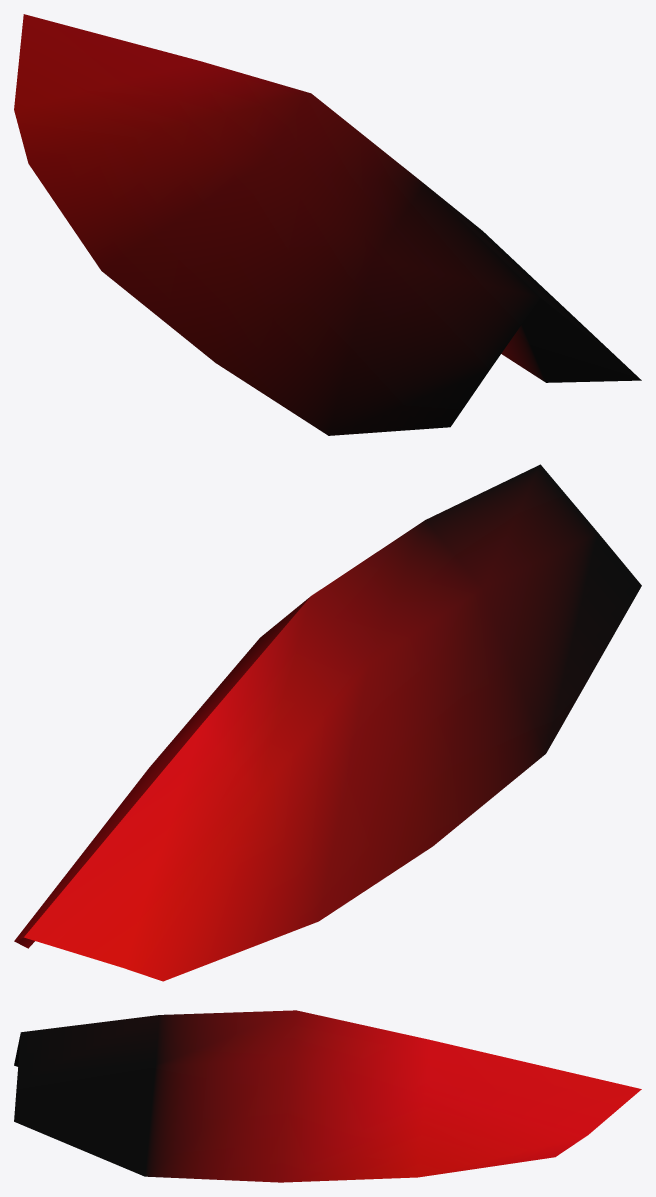
Rendered from SM_LeafPalm_02.fbx.
The picture shows the model from 3 angles, top to bottom: view 1: azimuth 30°, elevation 25°; view 2: azimuth 150°, elevation 25°; view 3: azimuth 270°, elevation 25°; orthographic projection. The views are drawn at different scales.
Parts seen in each view (by area): view 1: SM_LeafPalm_02_Low; view 2: SM_LeafPalm_02_Low; view 3: SM_LeafPalm_02_Low.
Part boxes in pixels (box(x1,y1,x2,y2)): SM_LeafPalm_02_Low: box(14, 14, 641, 435); SM_LeafPalm_02_Low: box(14, 464, 641, 981); SM_LeafPalm_02_Low: box(14, 1010, 641, 1182).
Bounding box in the file's own units: 118 × 121 × 490.
